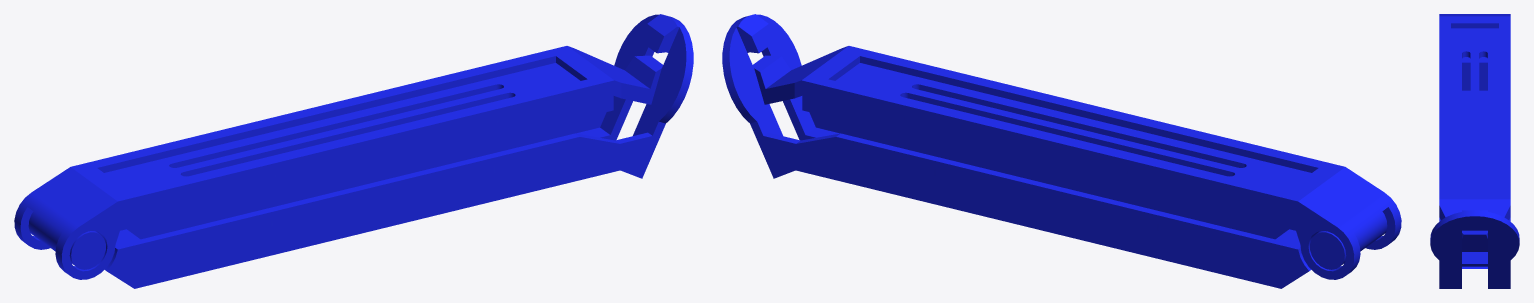
File: clips.glb
3 views of the same model, side by side, from view 1: azimuth 30°, elevation 25°; view 2: azimuth 150°, elevation 25°; view 3: azimuth 270°, elevation 25° (orthographic). The views are drawn at different scales.
Bounding box in the file's own units: 1.19 × 0.2305 × 0.1899.
Materials: 1 (1 with a texture image).
